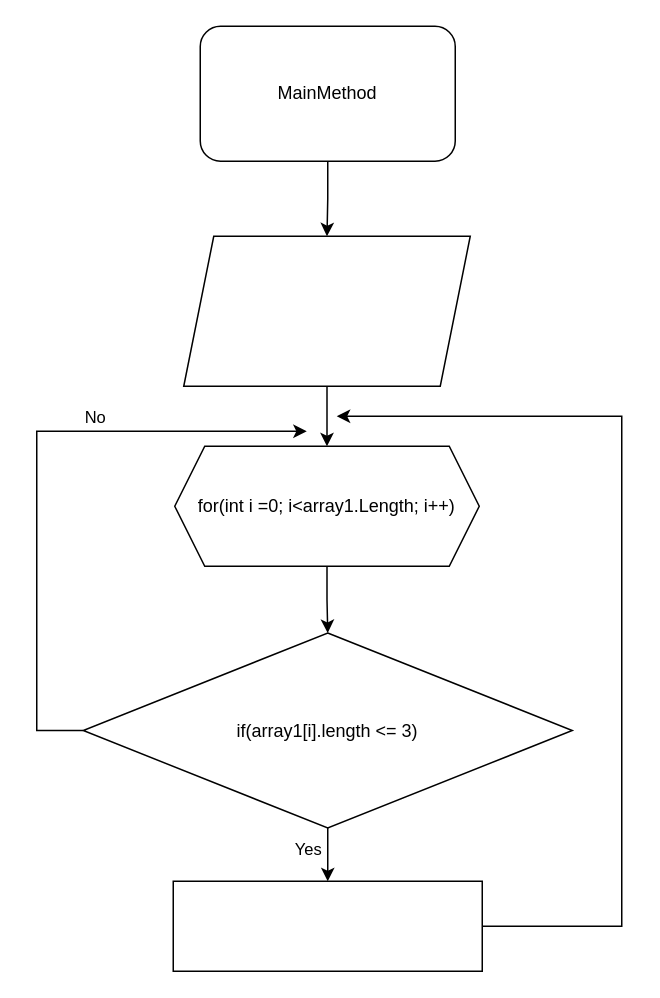
The diagram is 660 pixels wide and 998 high, and some of its shapes have lost their labels. The shapes that lost their labels are listed below. From the top down, each one's box as (x1, y1, x2, y2) in pixels, then its label:
(182, 235, 470, 386): string[] array1 string[] array2 int count = 0
(172, 880, 482, 971): array2[count] = array1[i] count++
